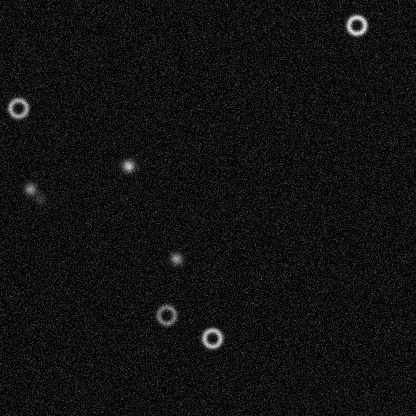Ring: (344, 13, 368, 37), (6, 95, 30, 119), (154, 302, 178, 326), (200, 326, 224, 350)
Spot: (168, 250, 184, 266), (22, 180, 38, 196), (31, 190, 47, 206), (120, 157, 136, 173)
